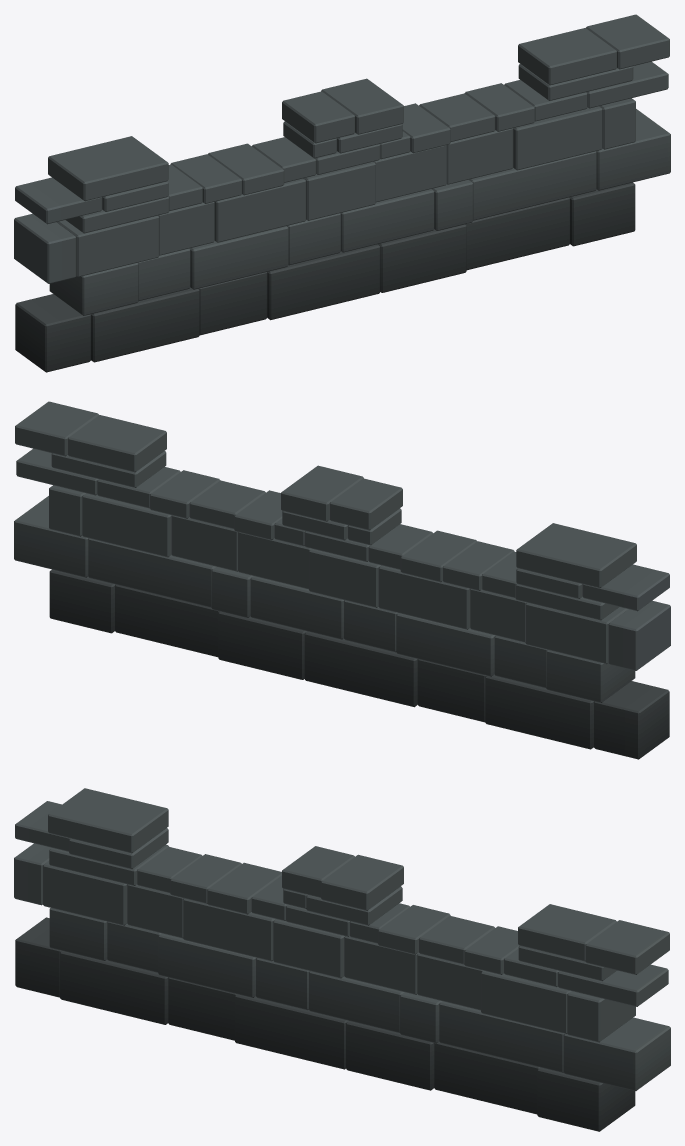
Rendered from WallMain.glb.
3 renders of one model, top to bottom at view 1: azimuth 30°, elevation 25°; view 2: azimuth 150°, elevation 25°; view 3: azimuth 330°, elevation 25°, orthographic.
Parts seen in each view (by area): view 1: WallMain.col; view 2: WallMain.col; view 3: WallMain.col.
Boxes of the visible parts, box(x1,y1,x2,y2) form: WallMain.col: box(14, 14, 670, 372); WallMain.col: box(14, 401, 670, 759); WallMain.col: box(14, 788, 670, 1131).
Size of the model in its own units: 4.68 by 1.32 by 0.4832.
Materials: 1 (1 with a texture image).
